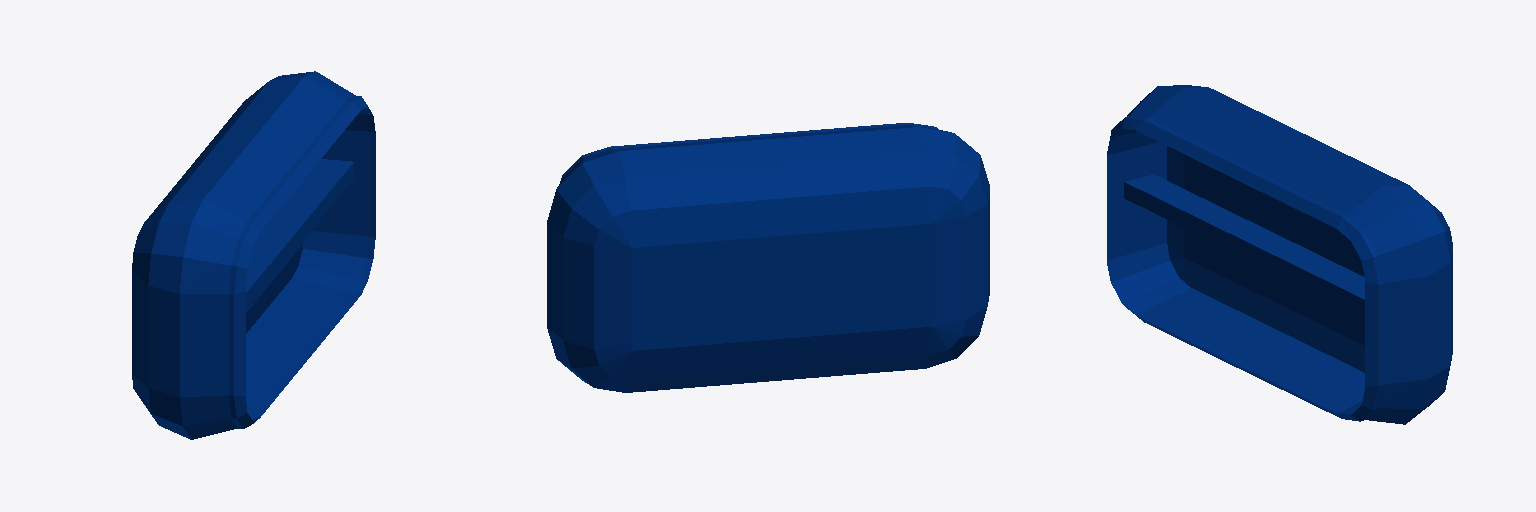
Rendered from laci.obj.
3 views of the same model, side by side, from view 1: azimuth 30°, elevation 25°; view 2: azimuth 150°, elevation 25°; view 3: azimuth 270°, elevation 25° (orthographic).
Parts seen in each view (by area): view 1: lemari_botol; view 2: lemari_botol; view 3: lemari_botol.
Boxes of the visible parts, x1=… form: lemari_botol: x1=132, y1=71, x2=375, y2=439; lemari_botol: x1=547, y1=123, x2=989, y2=392; lemari_botol: x1=1107, y1=85, x2=1452, y2=424.
Bounding box in the file's own units: 3451 × 2373 × 3166.